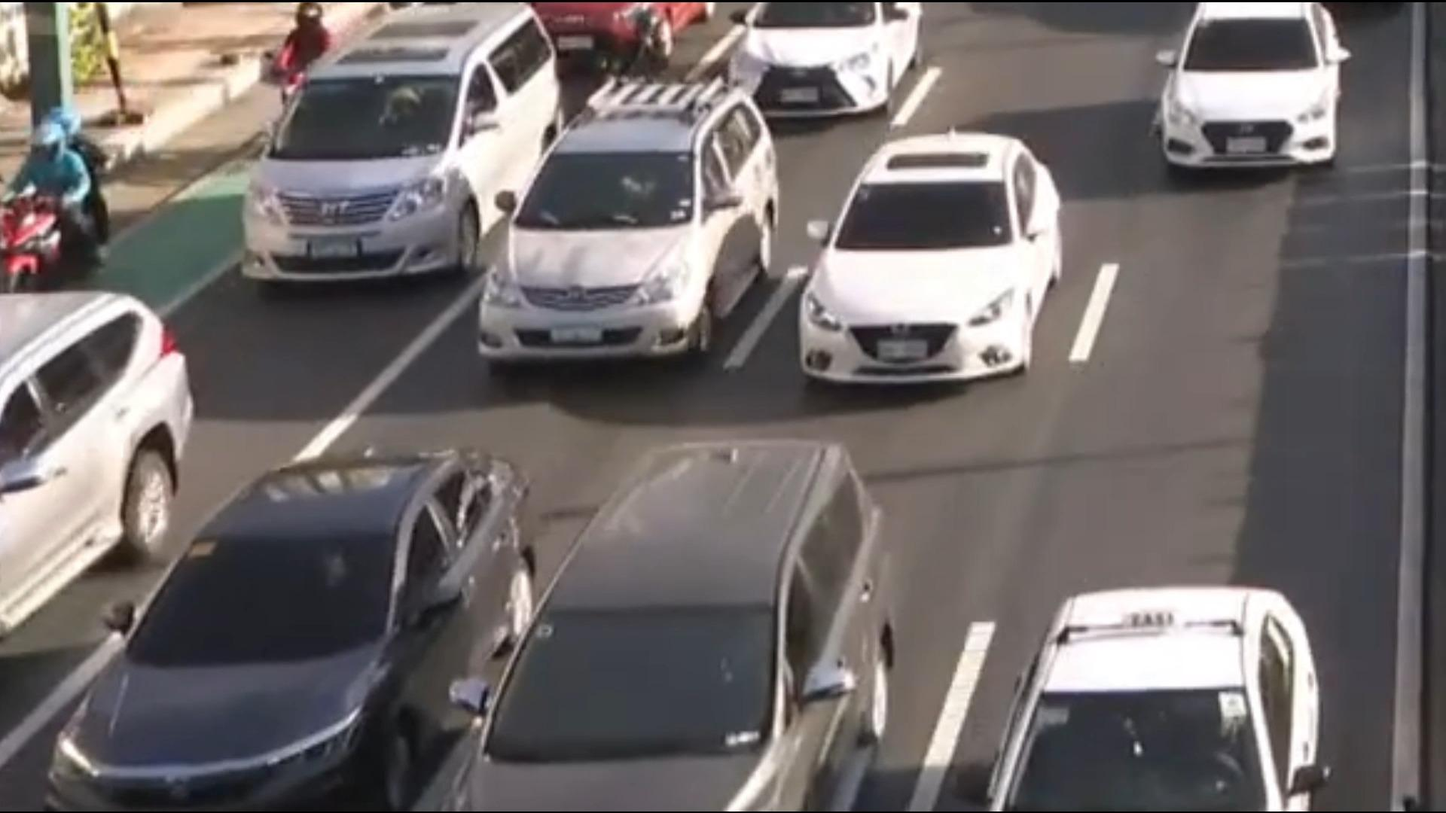Motorcycle: (0, 94, 128, 289), (247, 0, 349, 121)
SUV: (441, 428, 944, 813), (441, 68, 798, 382), (0, 277, 226, 655), (531, 0, 723, 68)
Sedan: (43, 420, 577, 813), (953, 559, 1367, 813), (778, 93, 1072, 432), (1130, 0, 1358, 183), (724, 0, 936, 130)
Van: (221, 2, 572, 318)
